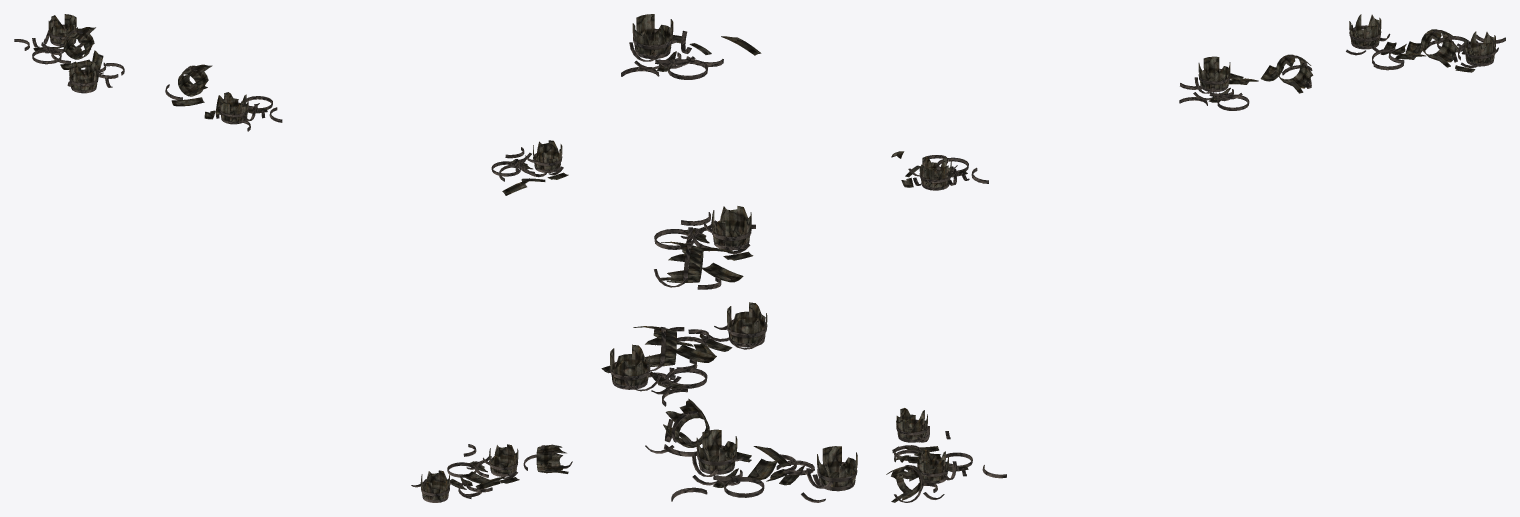
3 views of the same model, side by side, from view 1: azimuth 30°, elevation 25°; view 2: azimuth 150°, elevation 25°; view 3: azimuth 270°, elevation 25° (orthographic). The views are drawn at different scales.
Parts seen in each view (by area): view 1: mesh0, mesh1; view 2: mesh0, mesh1; view 3: mesh0, mesh1.
Part boxes in pixels (x1,y1,x2,y2): mesh0: (14, 14, 568, 195); mesh1: (411, 444, 572, 502); mesh0: (601, 14, 767, 406); mesh1: (645, 398, 857, 502); mesh0: (891, 14, 1505, 190); mesh1: (886, 408, 1006, 502).
Bounding box in the file's own units: 9.04 × 9.41 × 15.21.
